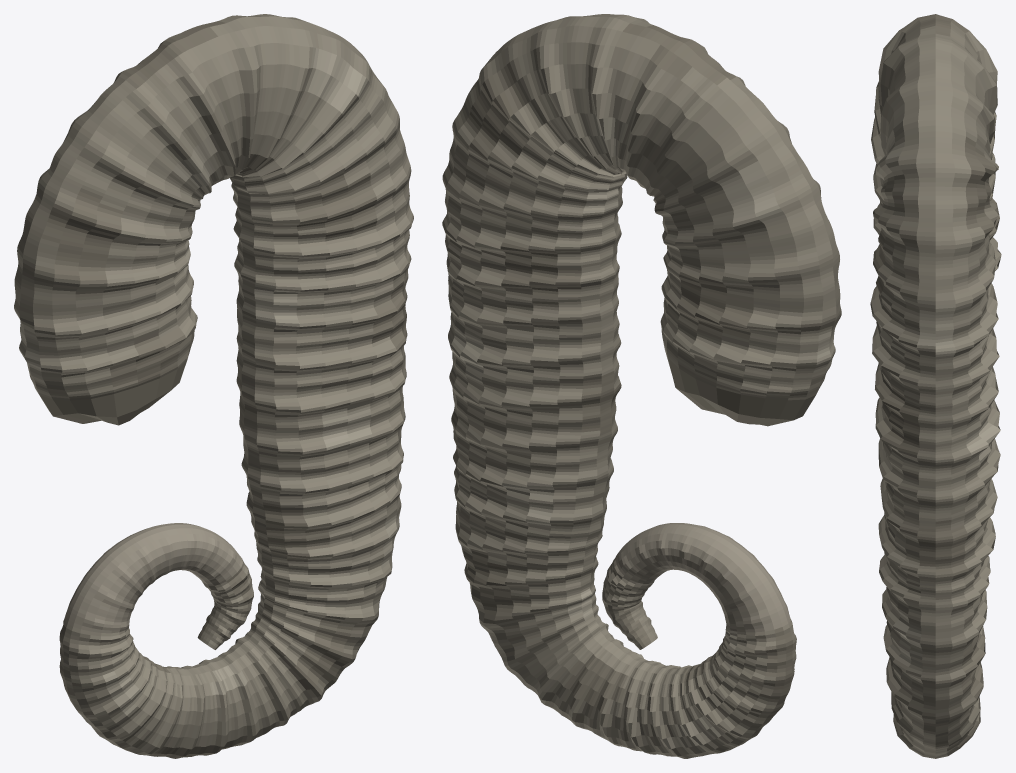
3 views of the same model, side by side, from view 1: azimuth 30°, elevation 25°; view 2: azimuth 150°, elevation 25°; view 3: azimuth 270°, elevation 25° (orthographic).
Visible parts, largest first — view 1: Continuous-compressed-coil-shaft-crook; view 2: Continuous-compressed-coil-shaft-crook; view 3: Continuous-compressed-coil-shaft-crook.
Part boxes in pixels (box(x1,y1,x2,y2)): Continuous-compressed-coil-shaft-crook: box(14, 14, 413, 758); Continuous-compressed-coil-shaft-crook: box(442, 14, 841, 758); Continuous-compressed-coil-shaft-crook: box(870, 14, 1001, 758).
Size of the model in its own units: 0.185 by 0.33 by 0.055.
